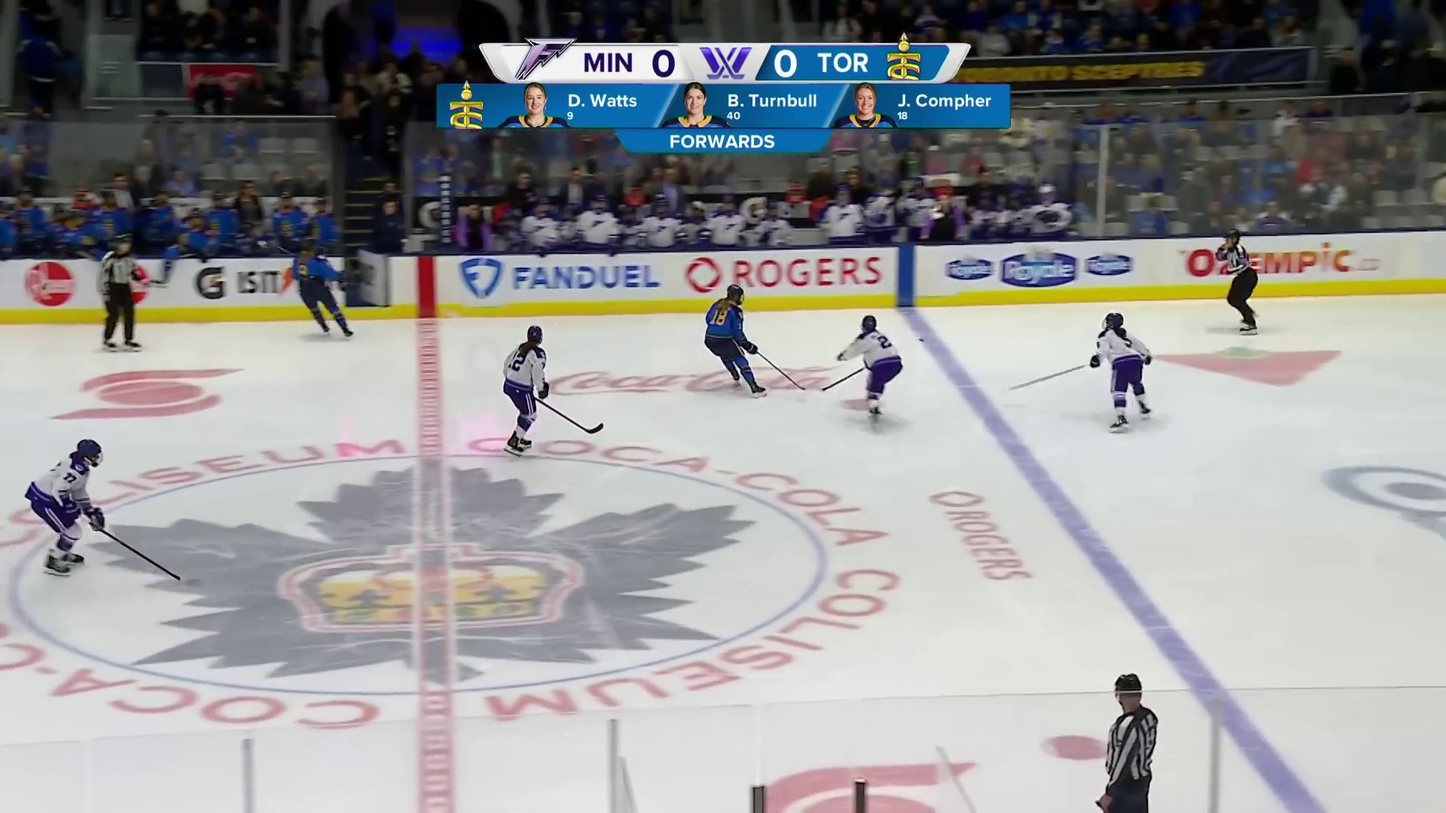player: (28, 438, 106, 578), (702, 283, 771, 400), (1088, 310, 1153, 434), (840, 313, 902, 418), (294, 239, 357, 342), (502, 324, 549, 458)
referee: (1098, 669, 1163, 810), (98, 234, 150, 348), (1216, 229, 1258, 337)
